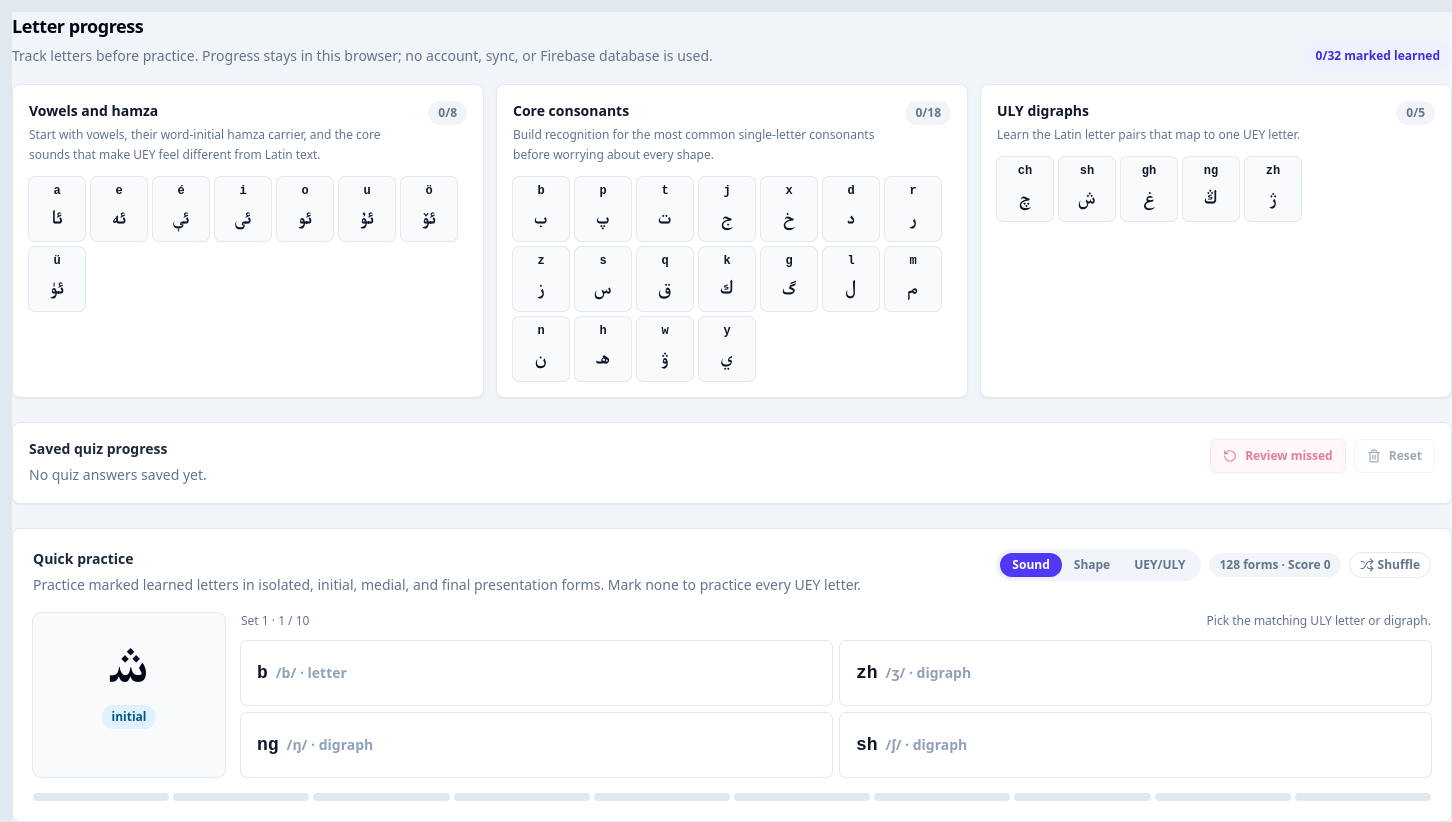
QuizPanel › switches to UEY/ULY mini quiz mode
The width and height of the screenshot is (1452, 822).
Click the button "UEY/ULY" at (1160, 565), box x1=1122 y1=553 x2=1197 y2=577
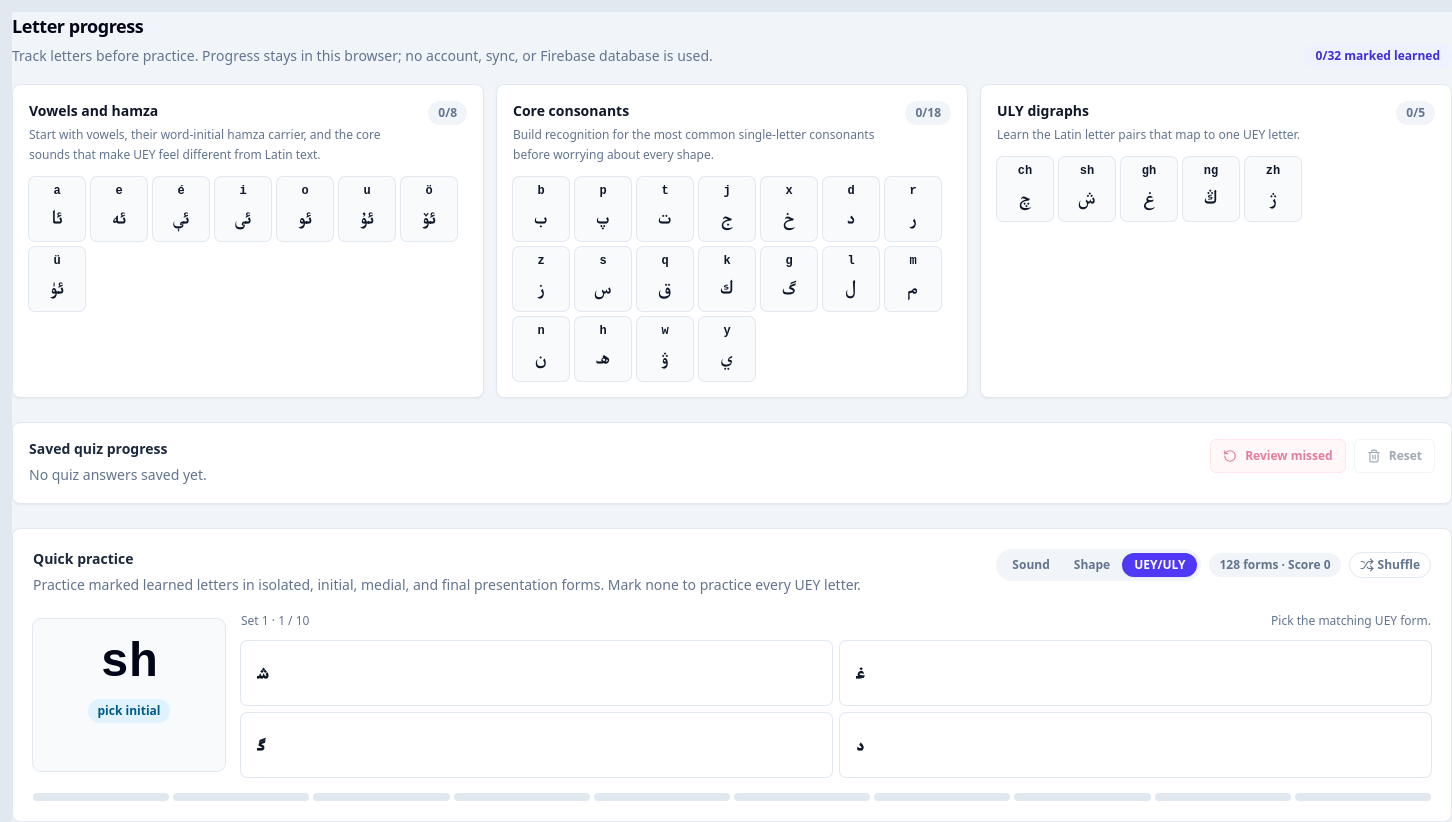
Expected: the button with aria-label "Shuffle practice set" is shown, x1=1349 y1=552 x2=1431 y2=578
Now the text "Pick the matching UEY form." is shown, box x1=1271 y1=613 x2=1431 y2=629
